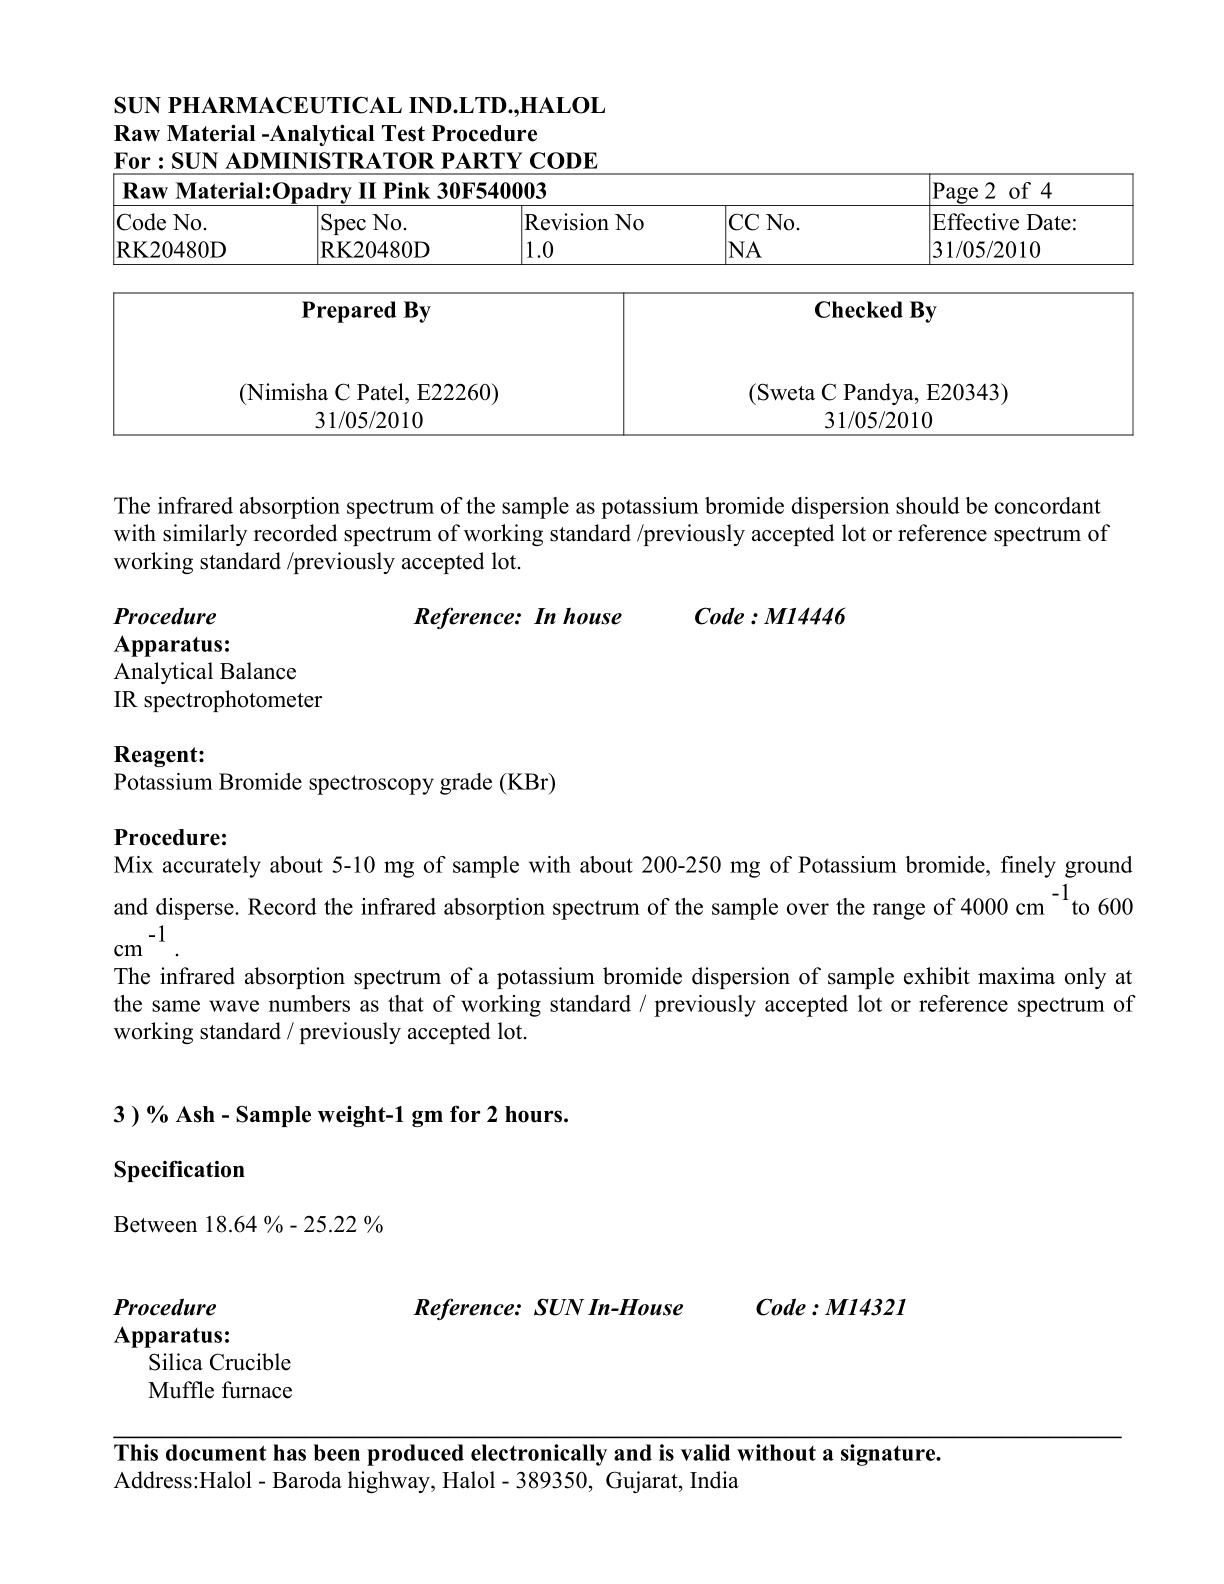merged_cells: (113, 172, 1134, 266)
partial_lined: (113, 291, 1134, 436)
